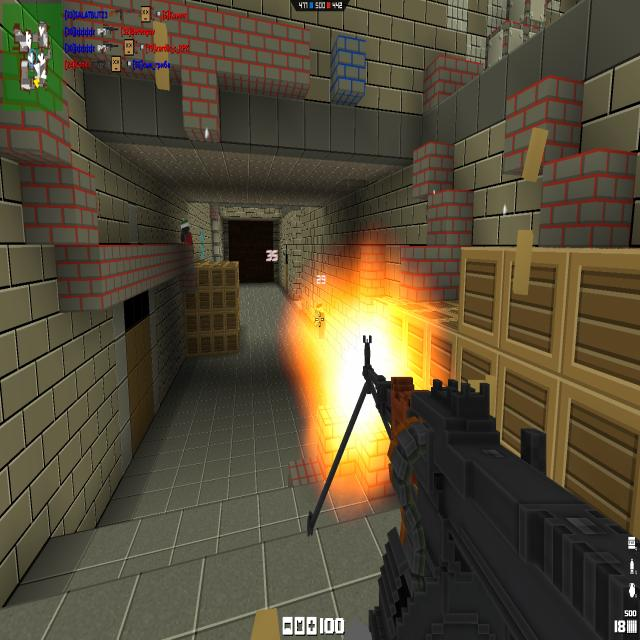player: (180, 218, 194, 246), (314, 308, 325, 329)
